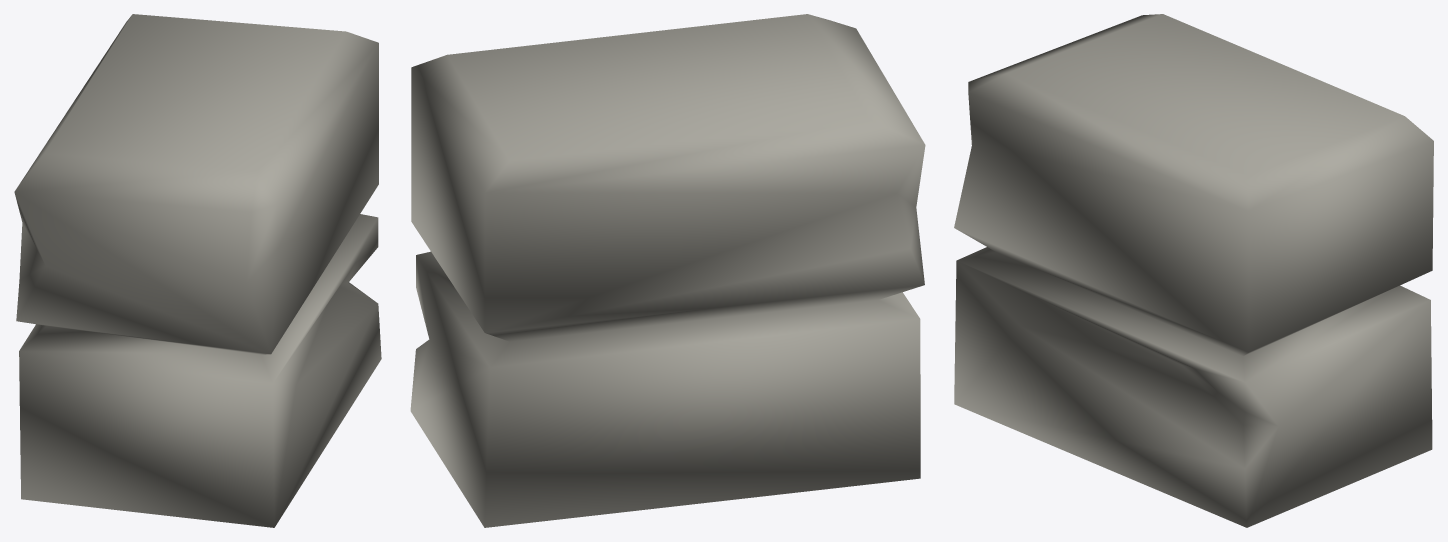
Rendered from rpgpp_ag_basement_01_3x1_corner_b.fbx.
The picture shows the model from 3 angles, left to right: view 1: azimuth 30°, elevation 25°; view 2: azimuth 150°, elevation 25°; view 3: azimuth 270°, elevation 25°; orthographic projection. The views are drawn at different scales.
Parts seen in each view (by area): view 1: rpgpp_ag_basement_01_3x1_corner_b; view 2: rpgpp_ag_basement_01_3x1_corner_b; view 3: rpgpp_ag_basement_01_3x1_corner_b.
Part boxes in pixels (x1,y1,x2,y2): rpgpp_ag_basement_01_3x1_corner_b: [14, 14, 381, 527]; rpgpp_ag_basement_01_3x1_corner_b: [410, 14, 925, 527]; rpgpp_ag_basement_01_3x1_corner_b: [954, 14, 1433, 527].
Bounding box in the file's own units: 1.64 × 1.25 × 1.62.
